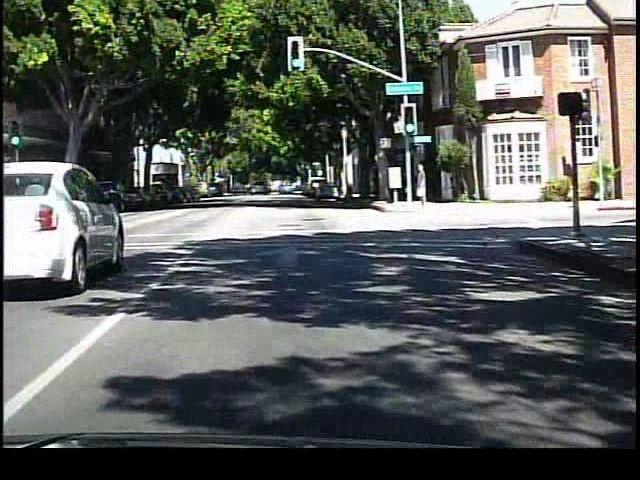person: (413, 158, 433, 212)
